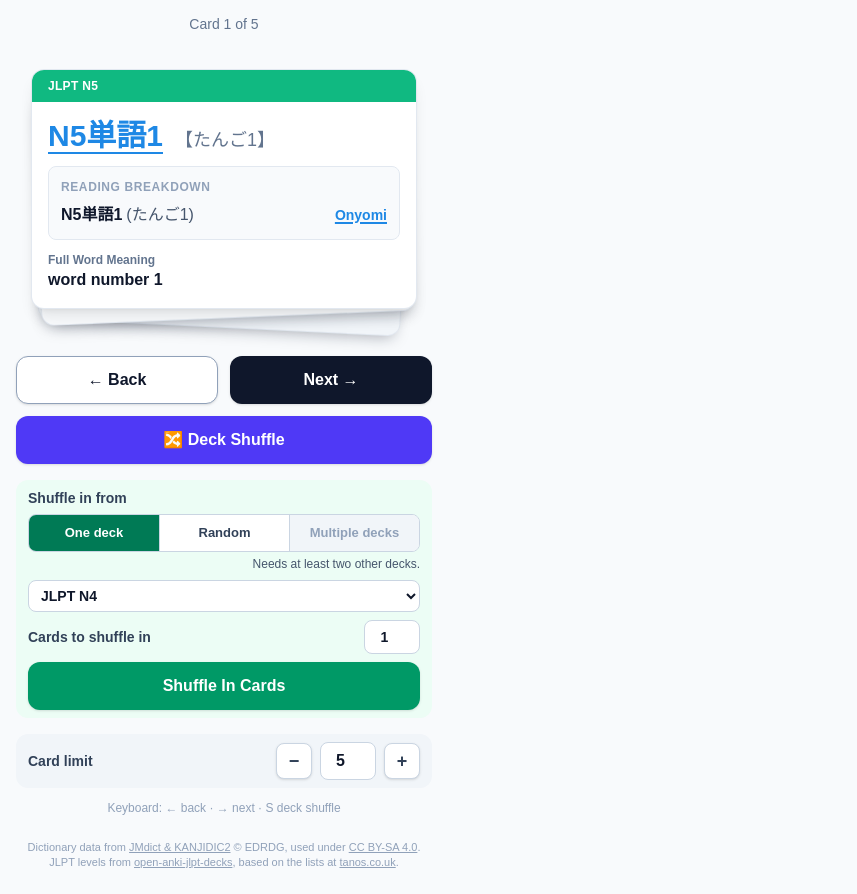
Test: moving cards with missing data (additions) › a lower card limit takes a missing card out of the deck: one blank card slides into the button, the count goes up as it lands, and the list shows the message
This screenshot has width=857, height=894.
(page scrolled)
Expected: the text "Card 1 of 5" is shown, [189,16,259,32]
Clear the number field labelled "Card limit" at (348, 761), box [320,742,376,780]
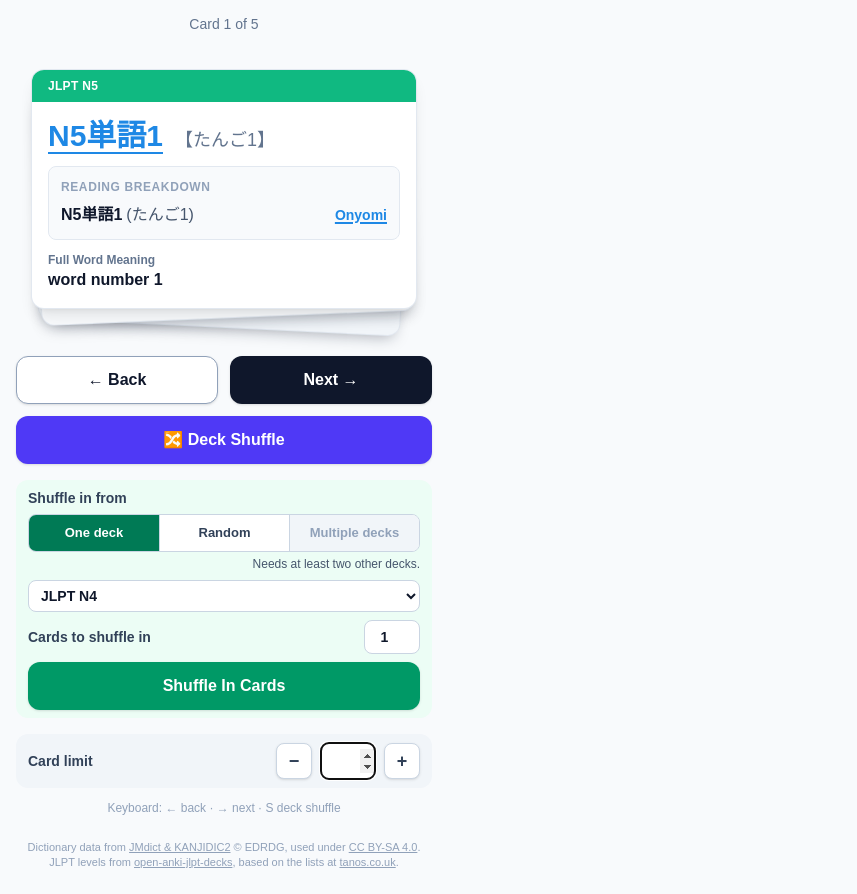
Type keys "4"
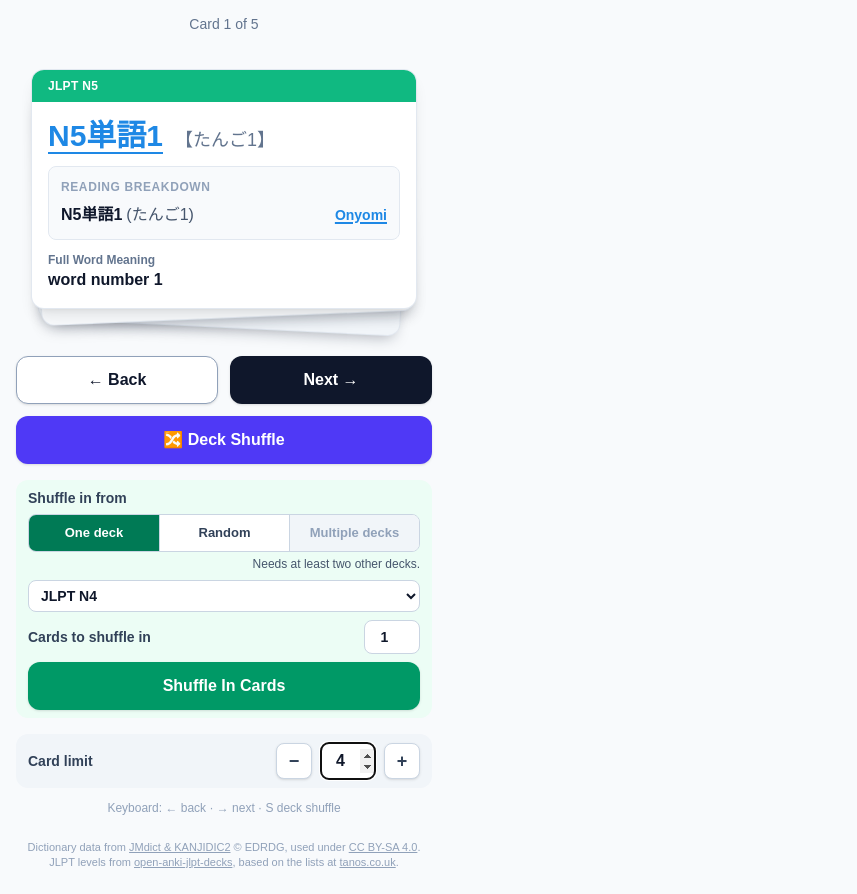
Press Enter
(page scrolled)
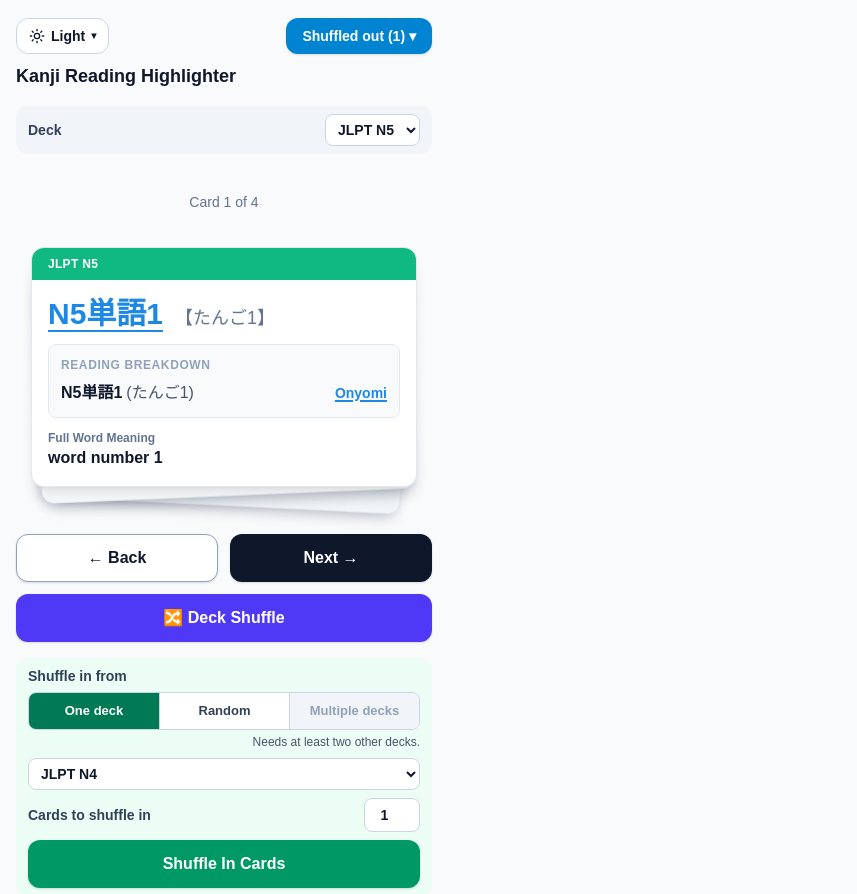
Click the button "Shuffled out (1) ▾" at (359, 36), box [286,18,432,54]
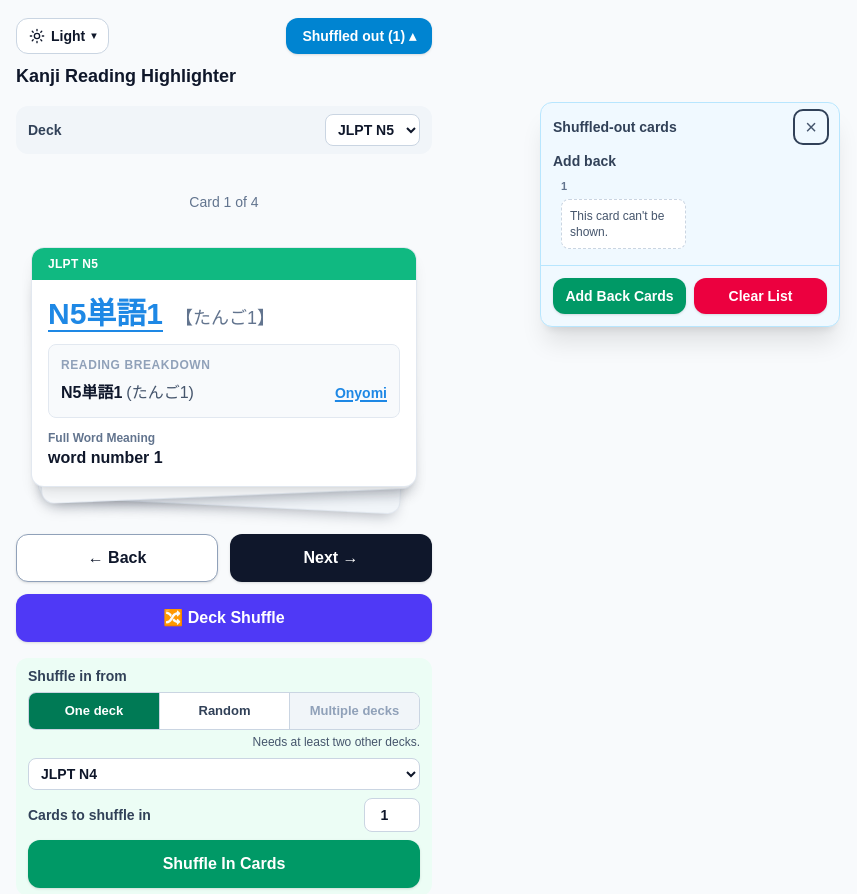
Result: the text "This card can't be shown." is shown at [561,199,686,249]
